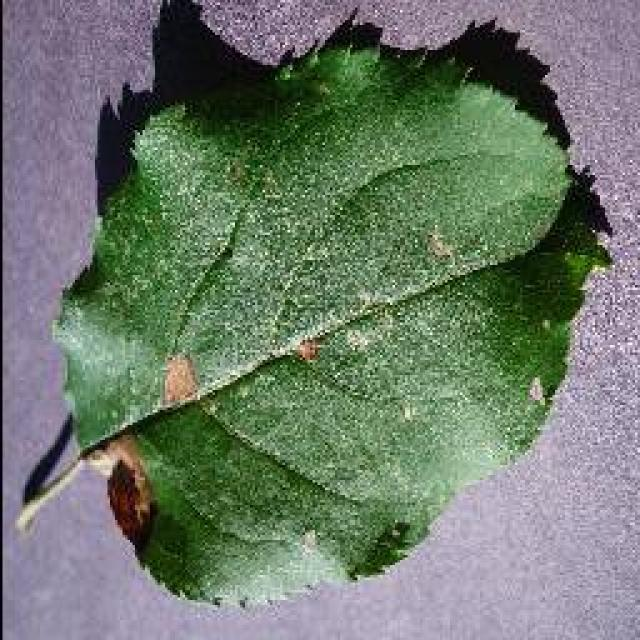apple scab disease: (30, 0, 615, 610)
